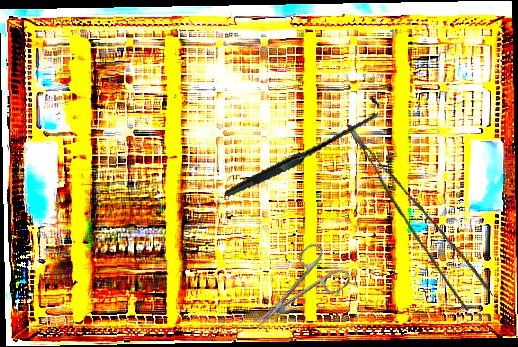Hook Surgical: (224, 71, 381, 224)
Iris Scissors: (235, 236, 354, 347)
Tissue Forceps: (346, 105, 494, 317)
